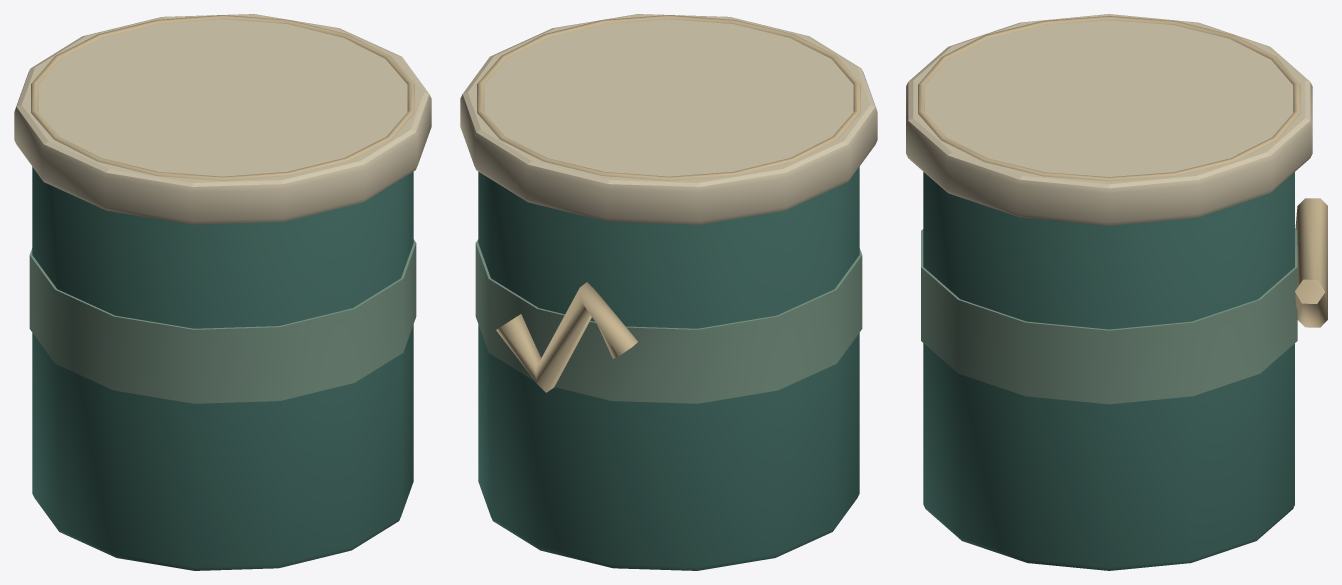
Rendered from bait.glb.
3 renders of one model, left to right at view 1: azimuth 30°, elevation 25°; view 2: azimuth 150°, elevation 25°; view 3: azimuth 270°, elevation 25°, orthographic.
Size of the model in its own units: 0.164 by 0.1717 by 0.1659.
